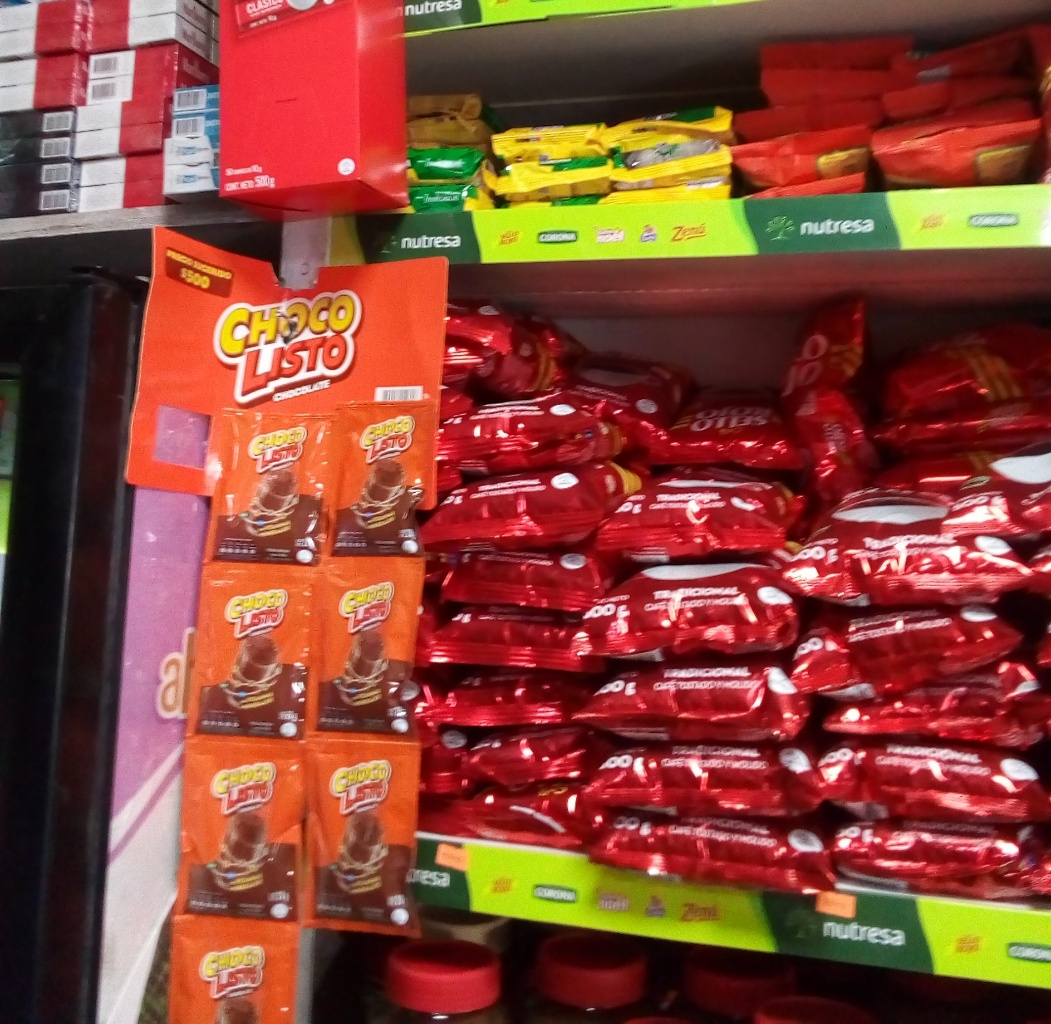COL0170103SOB02000: (218, 402, 332, 570)
